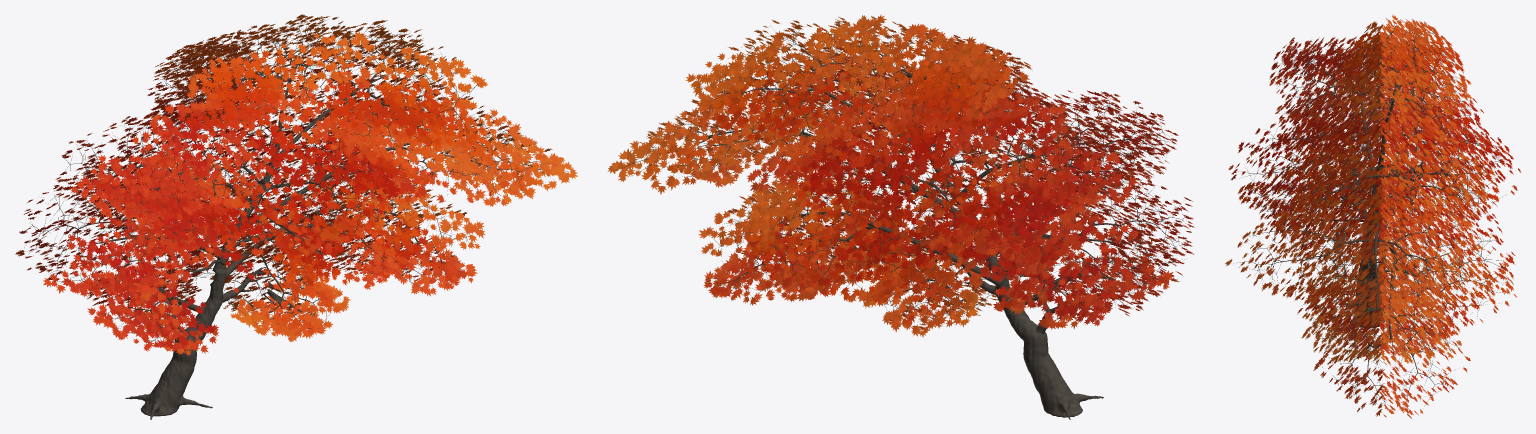
Rendered from wish-tree-natural-r04-web.glb.
The picture shows the model from 3 angles, left to right: view 1: azimuth 30°, elevation 25°; view 2: azimuth 150°, elevation 25°; view 3: azimuth 270°, elevation 25°; orthographic projection. The views are drawn at different scales.
Parts seen in each view (by area): view 1: CANOPY_heart, CANOPY_crown, CANOPY_upper-left, CANOPY_right-upper, CANOPY_left-shelf, CANOPY_lower-heart, CANOPY_right-middle, CANOPY_left-lower, WOOD_natural_trunk, CANOPY_lower-fall, CANOPY_right-fall, CANOPY_right-reach (+9 smaller); view 2: CANOPY_heart, CANOPY_crown, CANOPY_upper-left, CANOPY_lower-heart, CANOPY_left-shelf, CANOPY_right-upper, CANOPY_right-middle, CANOPY_left-lower, WOOD_natural_trunk, CANOPY_right-fall, CANOPY_lower-fall, CANOPY_right-reach (+9 smaller); view 3: CANOPY_heart, CANOPY_crown, CANOPY_right-upper, CANOPY_right-middle, CANOPY_lower-heart, CANOPY_right-fall, CANOPY_upper-left, CANOPY_right-reach, CANOPY_left-shelf, TWIGS_heart, TWIGS_right-middle, TWIGS_crown (+10 smaller).
Part boxes in pixels (box(x1,y1,x2,y2)): CANOPY_heart: box(151, 82, 400, 270); CANOPY_crown: box(144, 14, 393, 143); CANOPY_upper-left: box(55, 102, 271, 221); CANOPY_right-upper: box(275, 20, 487, 166); CANOPY_left-shelf: box(15, 179, 220, 297); CANOPY_lower-heart: box(214, 148, 429, 289); CANOPY_right-middle: box(315, 70, 558, 206); CANOPY_left-lower: box(87, 237, 254, 355); WOOD_natural_trunk: box(95, 44, 495, 419); CANOPY_lower-fall: box(209, 237, 350, 341); CANOPY_right-fall: box(347, 180, 484, 296); CANOPY_right-reach: box(433, 114, 577, 199); CANOPY_heart: box(796, 81, 1070, 269); CANOPY_crown: box(786, 14, 1066, 136); CANOPY_upper-left: box(941, 88, 1178, 208); CANOPY_lower-heart: box(748, 149, 980, 302); CANOPY_left-shelf: box(974, 169, 1194, 301); CANOPY_right-upper: box(685, 19, 911, 157); CANOPY_right-middle: box(656, 49, 888, 197); CANOPY_left-lower: box(954, 221, 1174, 329); WOOD_natural_trunk: box(694, 45, 1127, 419); CANOPY_right-fall: box(698, 179, 835, 305); CANOPY_lower-fall: box(847, 250, 1010, 337); CANOPY_right-reach: box(608, 104, 767, 194); CANOPY_heart: box(1228, 95, 1520, 243); CANOPY_crown: box(1318, 14, 1472, 141); CANOPY_right-upper: box(1280, 134, 1498, 233); CANOPY_right-middle: box(1225, 199, 1483, 301); CANOPY_lower-heart: box(1280, 224, 1517, 346); CANOPY_right-fall: box(1313, 296, 1470, 418); CANOPY_upper-left: box(1269, 34, 1460, 124); CANOPY_right-reach: box(1301, 295, 1450, 363); CANOPY_left-shelf: box(1282, 88, 1483, 181); TWIGS_heart: box(1234, 108, 1506, 234); TWIGS_right-middle: box(1237, 209, 1477, 295); TWIGS_crown: box(1334, 23, 1464, 136).
Size of the model in its own units: 11.34 by 7.19 by 5.74.
3 materials, 3 textured.
